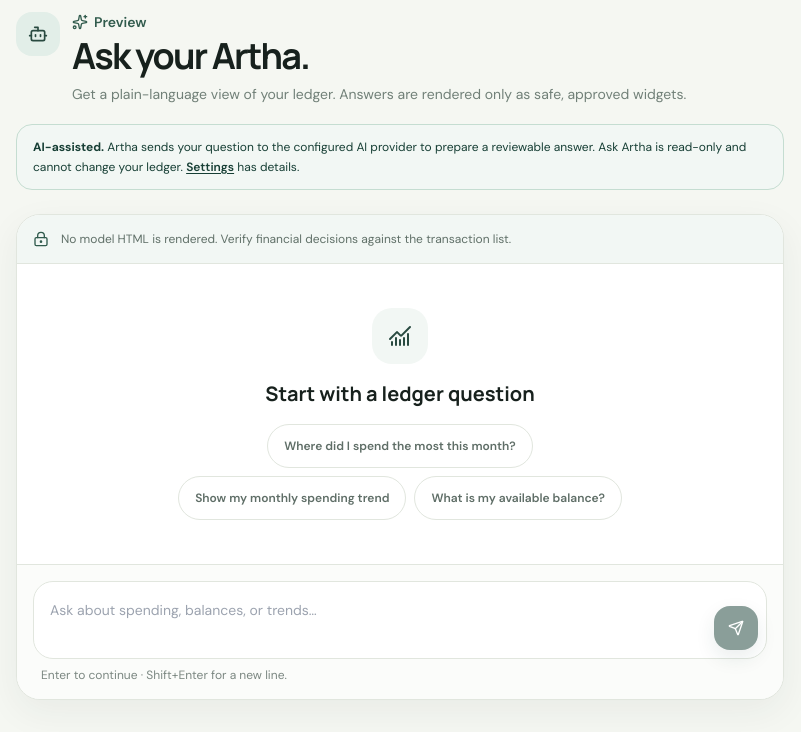
Scenario: AssistantPage generated UI › labels successful model output as an AI response and shows its provider and model
Type "What is my available balance?" into the text box named "Ask Artha" at (374, 620), box x1=42 y1=590 x2=706 y2=650
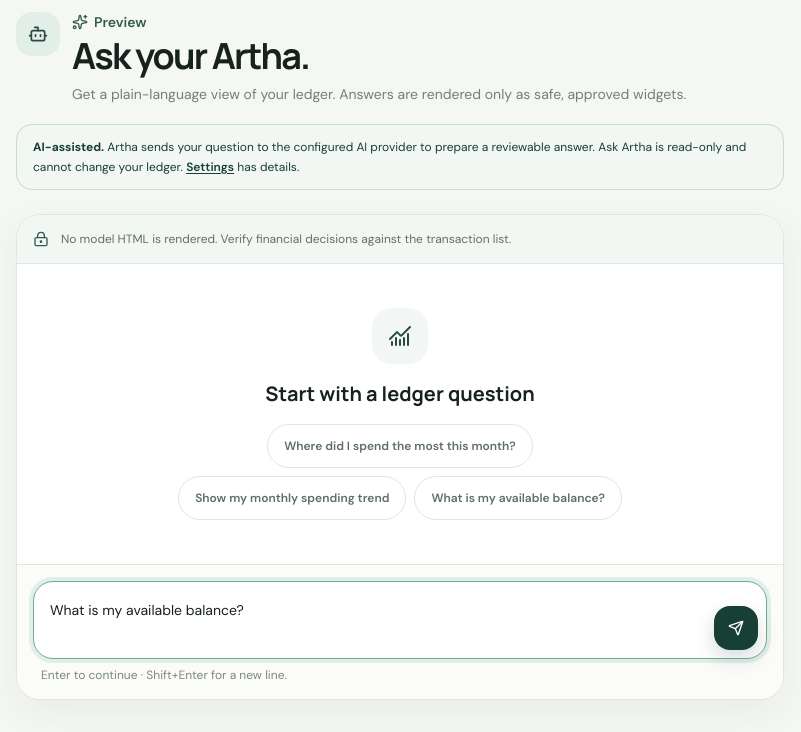
Click the button named "Send question" at (736, 628), box x1=714 y1=606 x2=758 y2=650
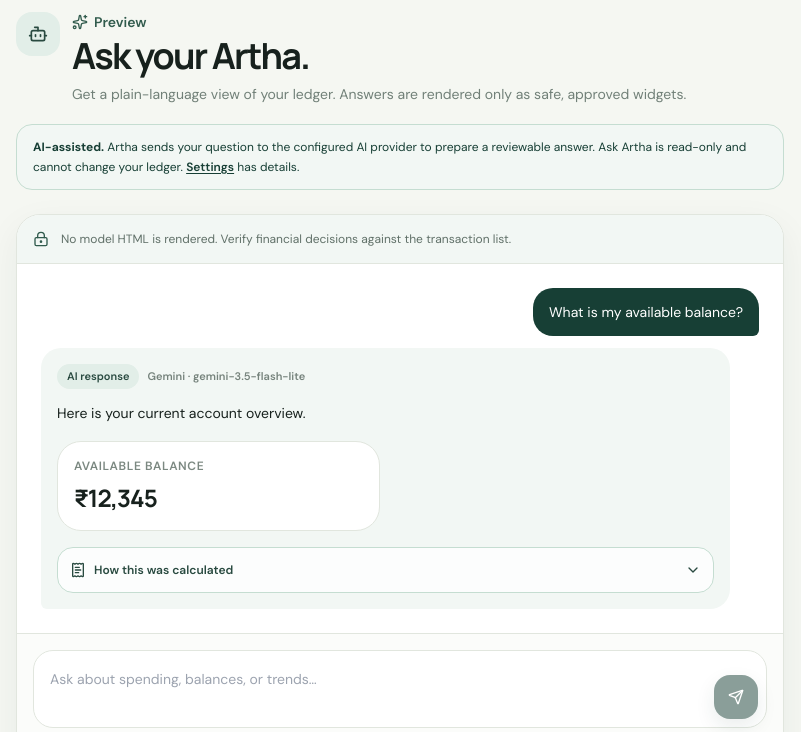
Expected: the text "AI response" is shown, x1=57 y1=364 x2=139 y2=388
Expected: the text "Gemini · gemini-3.5-flash-lite" is shown, x1=147 y1=368 x2=305 y2=384
